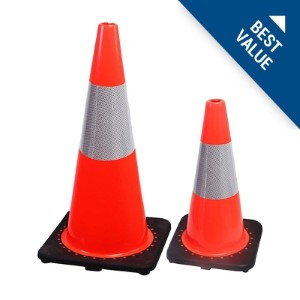traffic cone: (37, 21, 171, 275), (166, 99, 263, 273)
